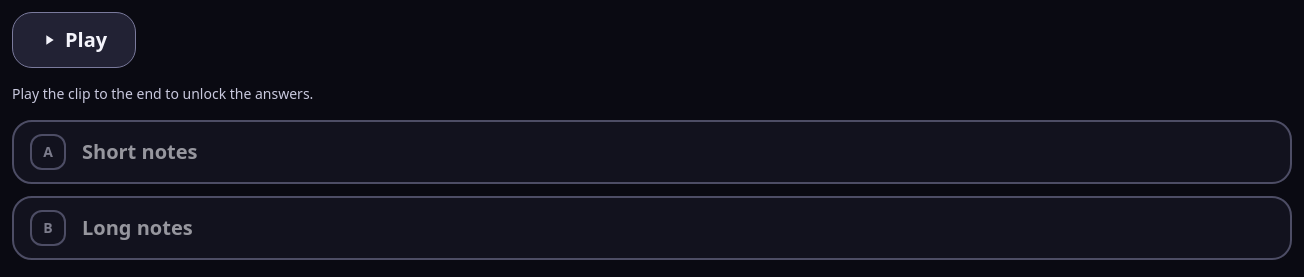
Test: ByEar: gating the options › does not count a clip that was stopped early
Click the button with aria-label "Play the clip".
click(74, 40)  # box 12,12 -> 136,68
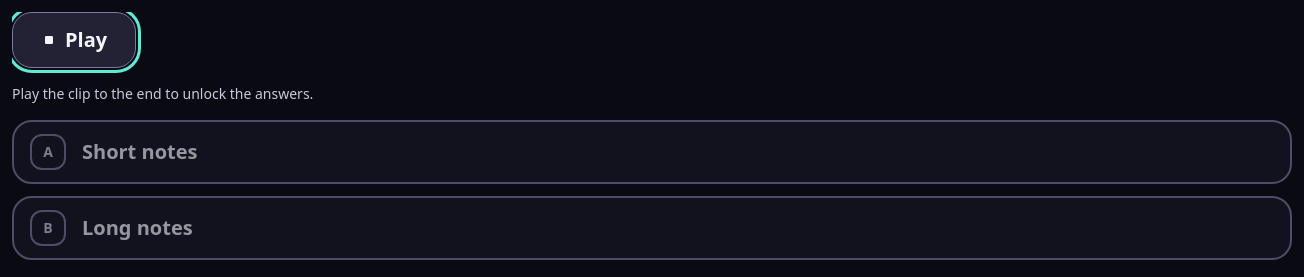
Click the button with aria-label "Stop the clip".
click(74, 40)  # box 12,12 -> 136,68
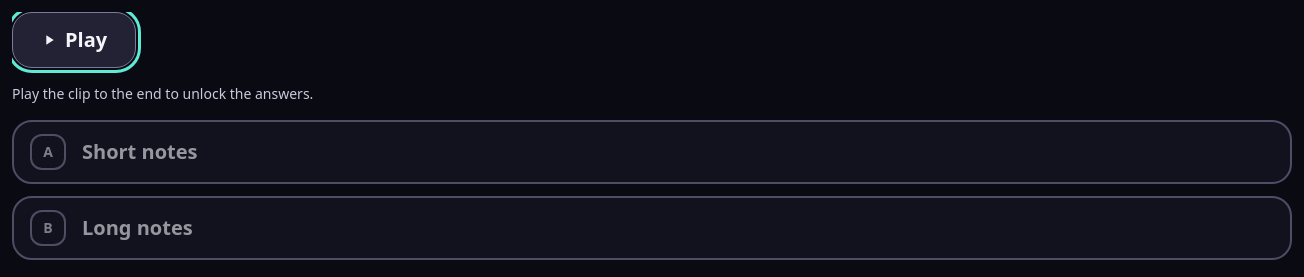
Expected: the button "A Short notes" is disabled, 12,120 -> 1292,184
Expected: the button with aria-label "Play the clip" is shown, 12,12 -> 136,68
